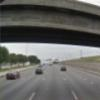cars: (5, 70, 21, 80), (34, 68, 44, 76)
